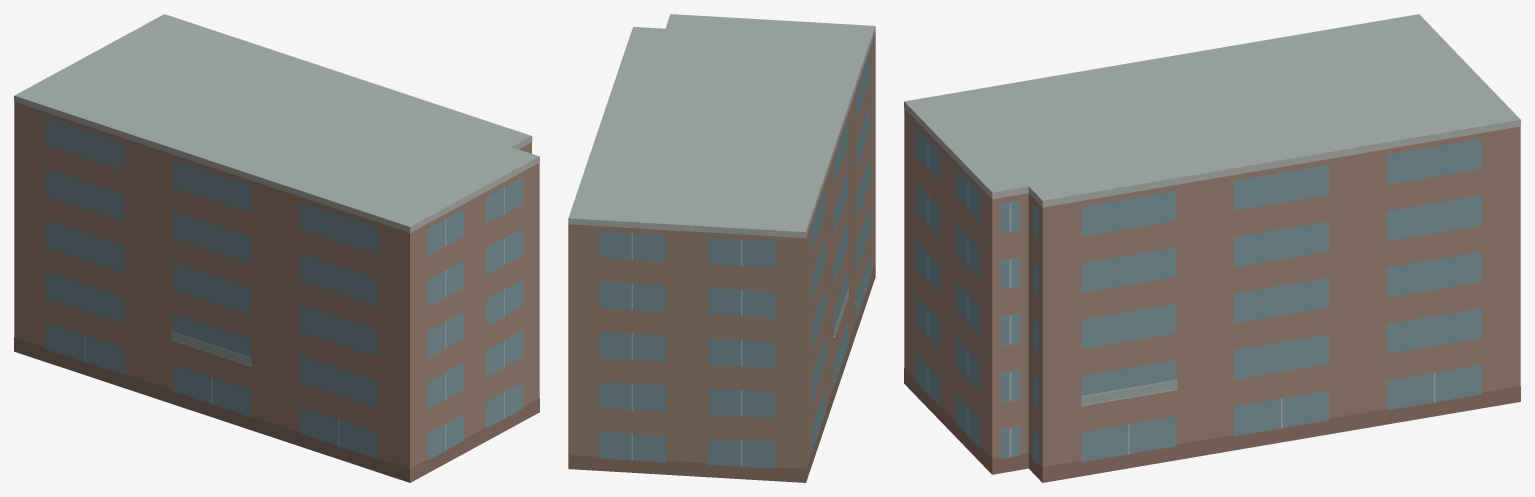
File: survey-upis-32757877.glb
3 views of the same model, side by side, from view 1: azimuth 30°, elevation 25°; view 2: azimuth 150°, elevation 25°; view 3: azimuth 270°, elevation 25° (orthographic). The views are drawn at different scales.
Parts seen in each view (by area): view 1: survey-upis-32757877.tmp; view 2: survey-upis-32757877.tmp; view 3: survey-upis-32757877.tmp.
Part boxes in pixels (x1,y1,x2,y2): survey-upis-32757877.tmp: [14, 14, 539, 482]; survey-upis-32757877.tmp: [568, 14, 875, 482]; survey-upis-32757877.tmp: [904, 14, 1520, 482].
Size of the model in its own units: 14.5 by 10.2 by 20.22.
